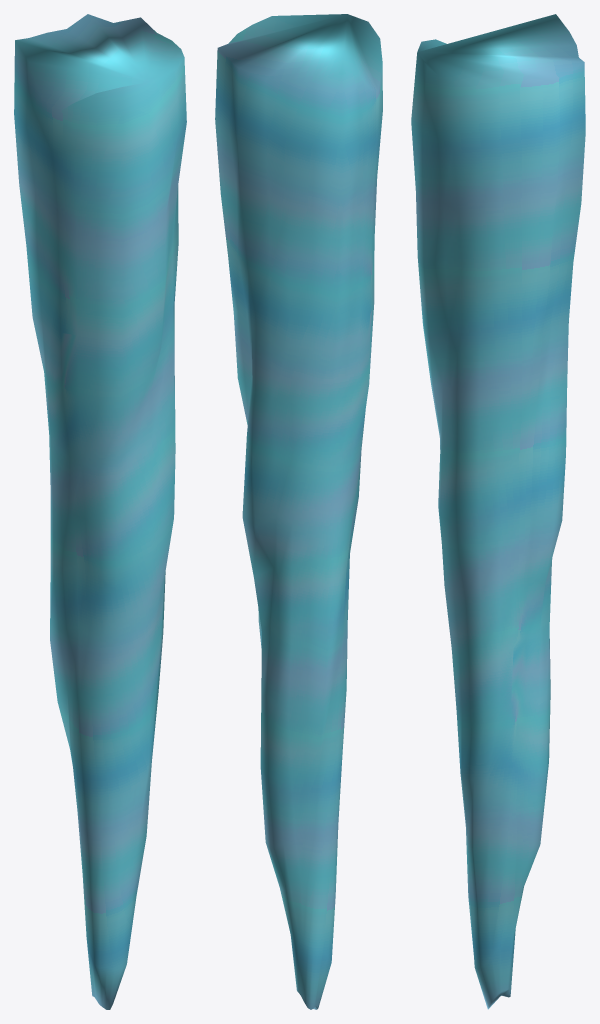
The model's file is icicle1.fbx.
3 views of the same model, side by side, from view 1: azimuth 30°, elevation 25°; view 2: azimuth 150°, elevation 25°; view 3: azimuth 270°, elevation 25° (orthographic).
Parts seen in each view (by area): view 1: Cone; view 2: Cone; view 3: Cone.
Boxes of the visible parts, x1,y1,x2,y2 form: Cone: (14,14,186,1009); Cone: (215,14,382,1009); Cone: (411,14,585,1009).
Bounding box in the file's own units: 1.64 × 11.03 × 1.81.
